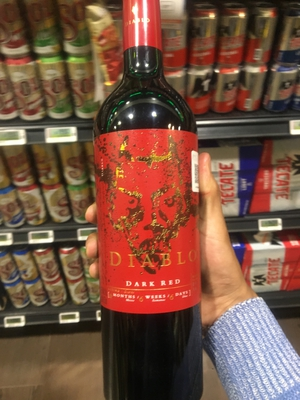diablo dark red: (84, 12, 211, 400)
